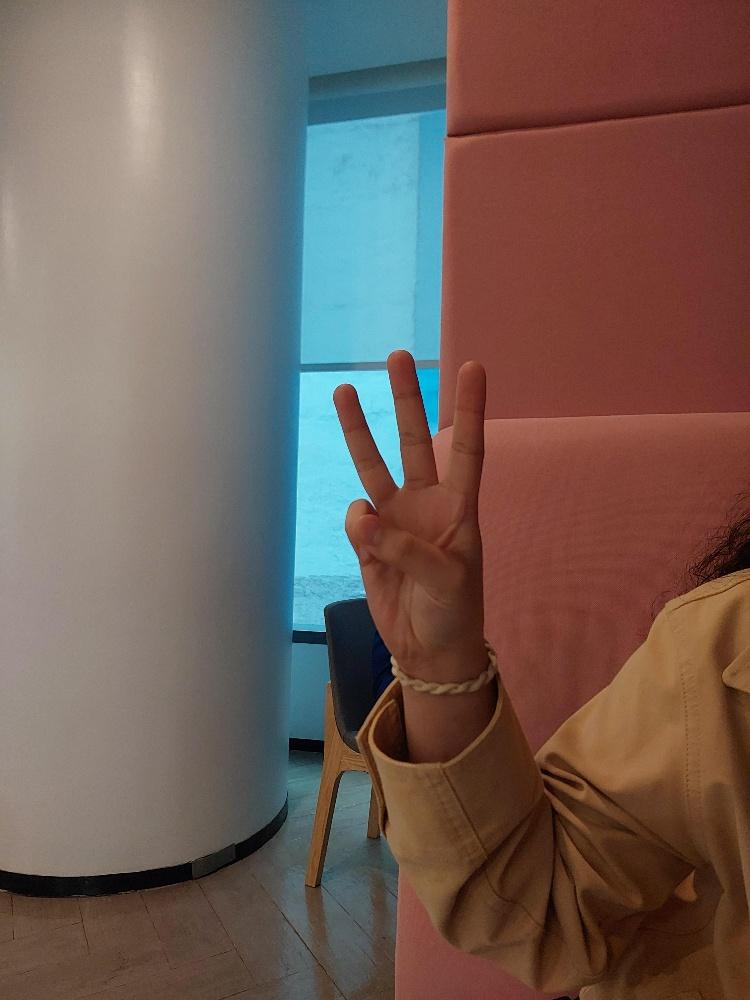w: (325, 340, 491, 682)
